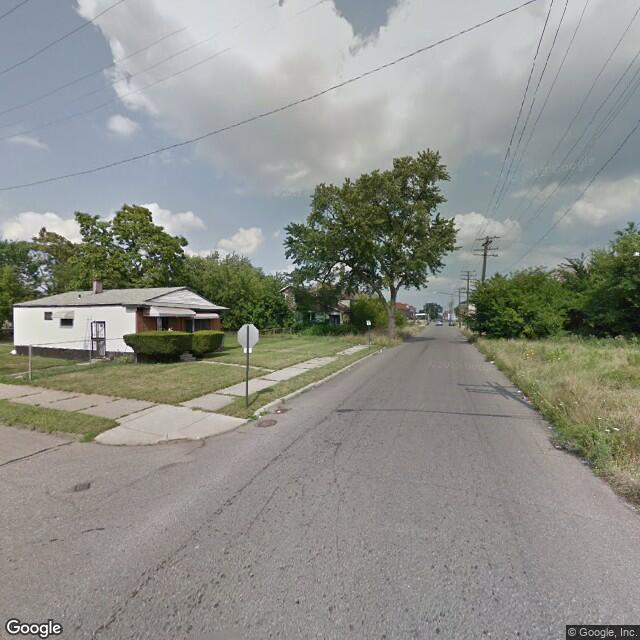litter: (257, 413, 264, 420), (275, 408, 282, 413), (516, 388, 523, 393), (489, 358, 494, 364)
